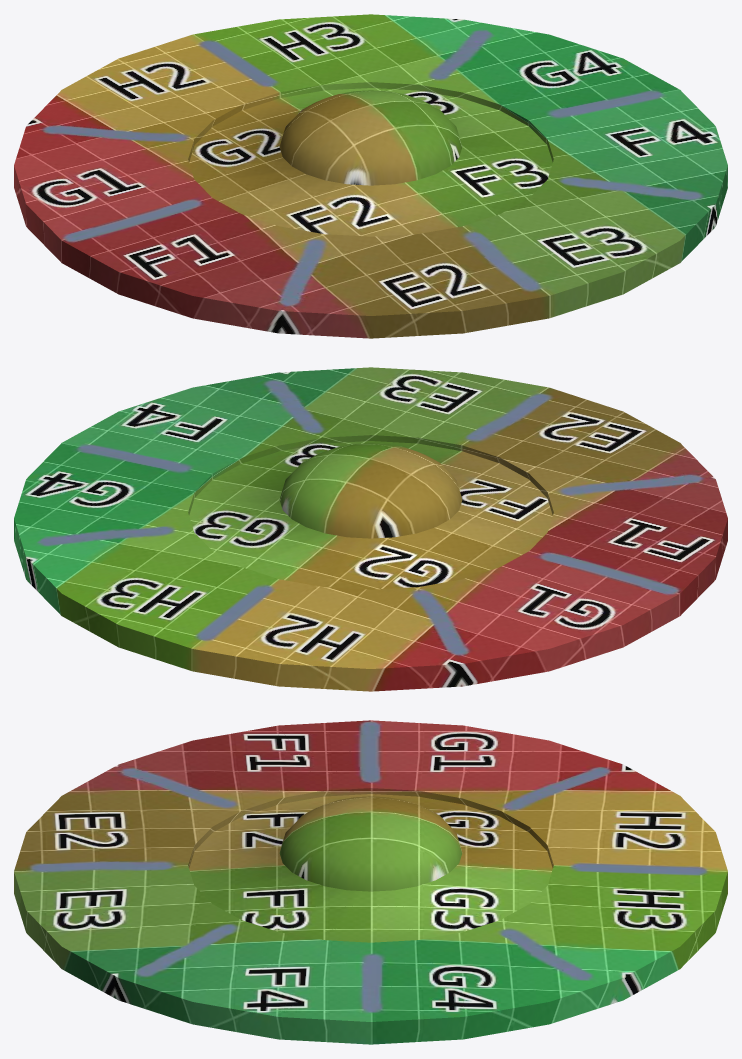
File: asset.glb
The picture shows the model from 3 angles, top to bottom: view 1: azimuth 30°, elevation 25°; view 2: azimuth 150°, elevation 25°; view 3: azimuth 270°, elevation 25°; orthographic projection.
Parts seen in each view (by area): view 1: Disk1; view 2: Disk1; view 3: Disk1.
Boxes of the visible parts, left/top/right/bottom form: Disk1: left=14, top=14, right=727, bottom=338; Disk1: left=14, top=367, right=727, bottom=691; Disk1: left=14, top=720, right=727, bottom=1044.
Size of the model in its own units: 7.81 by 0.9916 by 7.81.
1 material, 1 textured.
